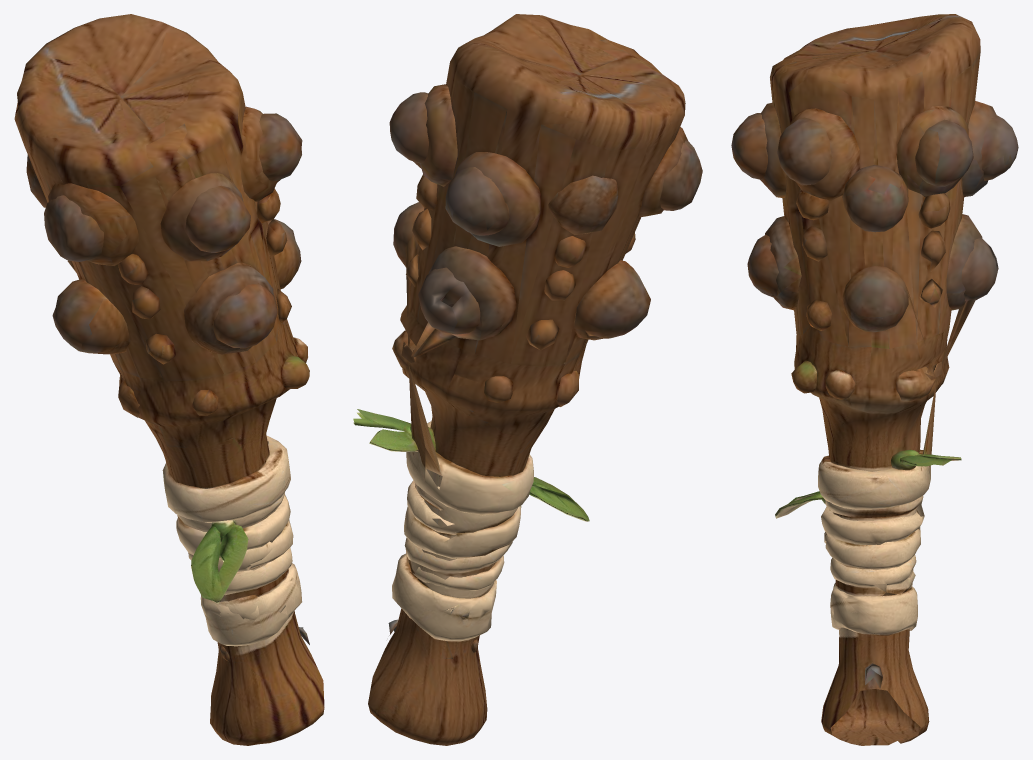
Rendered from garrote.glb.
The picture shows the model from 3 angles, left to right: view 1: azimuth 30°, elevation 25°; view 2: azimuth 150°, elevation 25°; view 3: azimuth 270°, elevation 25°; orthographic projection. The views are drawn at different scales.
Visible parts, largest first — view 1: garrote; view 2: garrote; view 3: garrote.
Boxes of the visible parts, x1,y1,x2,y2 form: garrote: (14,14,324,745); garrote: (353,14,702,745); garrote: (731,14,1018,745).
Size of the model in its own units: 0.2534 by 0.62 by 0.2432.
1 material, 1 textured.
